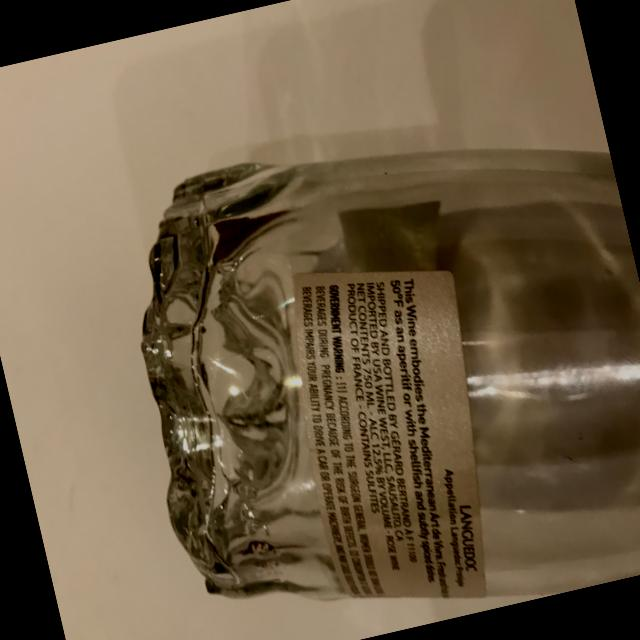Glass: (86, 74, 640, 640)
